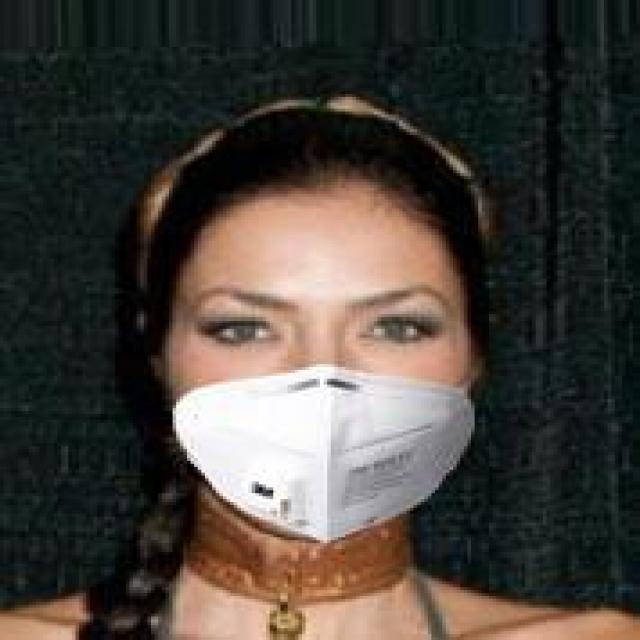mask: (86, 120, 518, 572)
